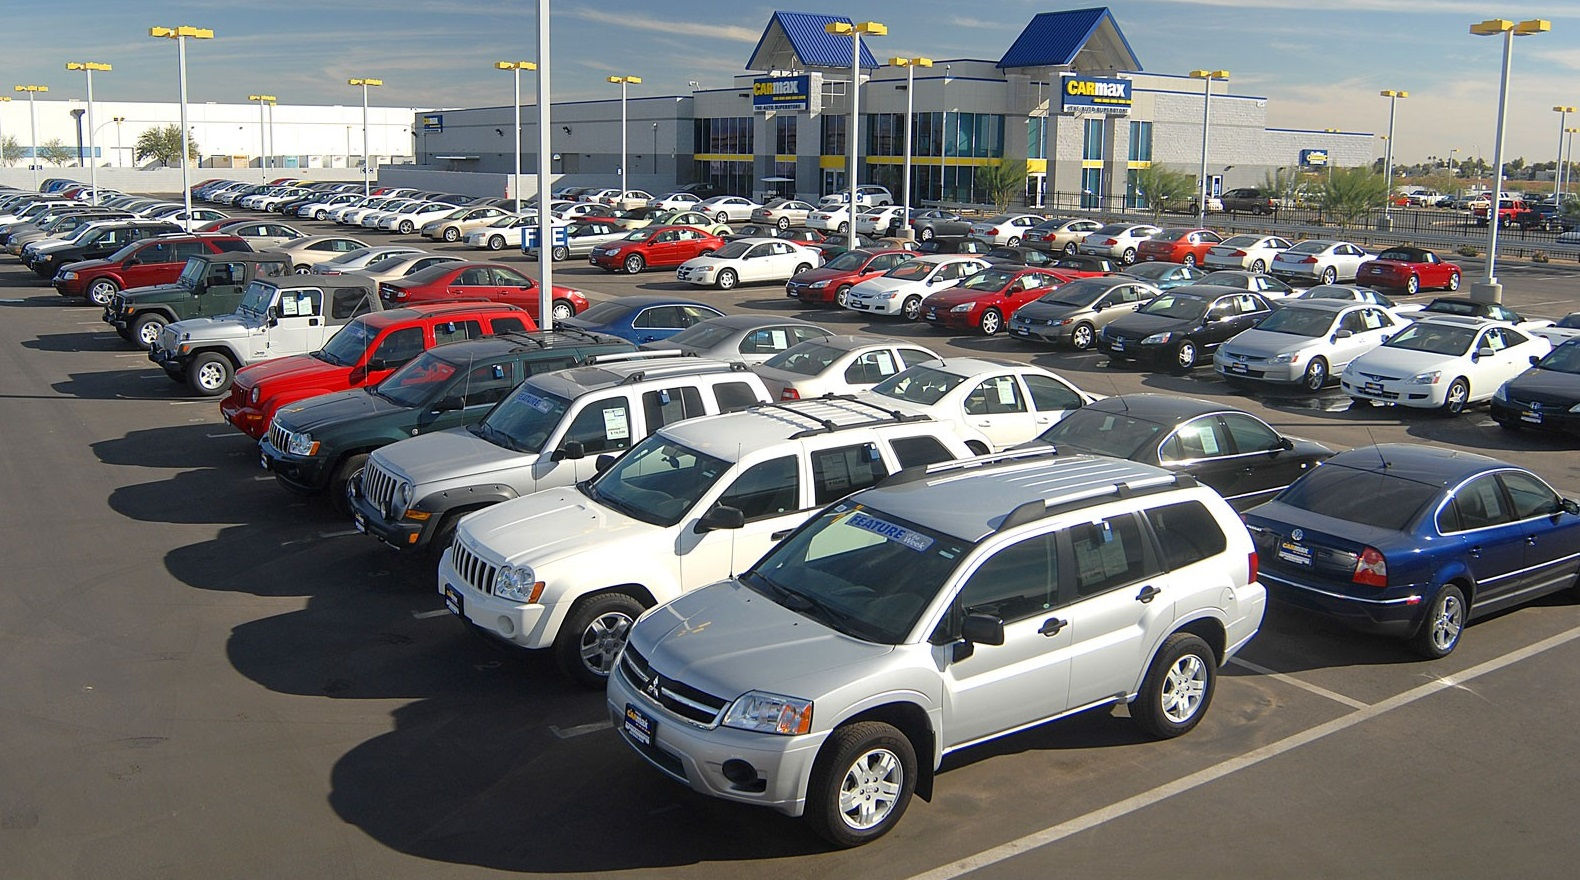Car: (608, 454, 1265, 842), (438, 397, 972, 682), (347, 359, 768, 551), (1245, 444, 1580, 659), (258, 330, 632, 495), (221, 301, 534, 441), (997, 394, 1335, 511), (151, 276, 380, 397), (864, 358, 1099, 451), (1341, 317, 1551, 415), (104, 253, 294, 350), (1214, 301, 1412, 392), (1098, 286, 1275, 372), (54, 234, 252, 306), (756, 335, 939, 402), (1007, 276, 1161, 351), (920, 267, 1072, 336), (643, 313, 833, 366), (845, 255, 987, 321), (1489, 338, 1580, 438), (381, 263, 538, 316), (562, 296, 724, 346), (676, 238, 827, 290), (22, 217, 172, 269), (32, 222, 181, 274), (787, 247, 916, 306), (591, 226, 723, 274), (6, 212, 141, 258), (1398, 297, 1556, 331), (1356, 247, 1462, 295), (521, 219, 633, 260), (0, 206, 112, 246), (1271, 240, 1371, 284), (1271, 285, 1428, 313), (462, 213, 577, 250), (264, 235, 369, 274), (343, 253, 465, 286), (1179, 270, 1308, 299), (1081, 223, 1164, 265), (421, 206, 514, 243), (1103, 261, 1207, 294), (1137, 228, 1222, 268), (1204, 235, 1291, 273), (309, 246, 419, 274), (1021, 219, 1104, 256), (887, 209, 976, 242), (378, 201, 463, 235), (0, 200, 91, 230), (643, 210, 734, 239), (969, 213, 1048, 246), (222, 220, 304, 250), (1042, 255, 1124, 282), (805, 232, 873, 263), (806, 202, 872, 233), (360, 200, 433, 228), (1528, 311, 1580, 350), (751, 200, 819, 229), (817, 185, 895, 210), (342, 198, 415, 224), (856, 206, 915, 238), (298, 193, 365, 221), (691, 196, 764, 221), (326, 195, 393, 222), (1474, 200, 1534, 229), (979, 246, 1058, 268), (1219, 188, 1281, 215), (154, 207, 229, 229), (252, 188, 317, 213), (284, 192, 343, 219), (272, 190, 335, 215), (1155, 192, 1223, 215), (913, 239, 991, 258), (241, 186, 297, 210), (615, 208, 673, 231), (232, 185, 286, 208), (721, 224, 782, 244), (0, 197, 71, 214), (1517, 205, 1563, 231), (0, 193, 66, 210), (647, 193, 703, 212), (599, 190, 656, 208), (551, 203, 611, 220), (672, 182, 730, 199), (774, 228, 826, 245), (205, 183, 254, 201), (521, 199, 578, 214), (570, 207, 627, 222), (196, 218, 258, 231), (182, 179, 224, 197), (221, 185, 260, 204), (191, 180, 228, 200), (1404, 190, 1445, 208), (111, 198, 163, 212), (197, 182, 235, 201), (866, 238, 921, 251), (559, 187, 606, 202), (213, 185, 252, 202), (83, 193, 133, 206), (491, 199, 535, 213), (579, 189, 622, 203), (1452, 195, 1489, 211), (137, 204, 185, 216), (74, 188, 122, 200), (459, 197, 510, 208), (431, 194, 477, 206), (142, 206, 192, 217), (98, 196, 148, 207), (124, 201, 172, 212), (551, 186, 585, 200), (1520, 194, 1549, 210), (59, 187, 94, 200), (47, 179, 79, 193), (1481, 192, 1512, 206), (1556, 226, 1580, 244), (1544, 192, 1579, 204), (40, 179, 69, 193), (380, 188, 419, 198), (55, 183, 96, 192), (412, 192, 451, 201), (360, 187, 397, 196), (1389, 193, 1411, 208), (394, 191, 434, 199), (1435, 195, 1457, 209), (0, 192, 20, 205), (330, 184, 361, 192), (266, 178, 299, 185), (287, 181, 319, 188), (0, 190, 37, 196), (275, 180, 305, 187), (317, 183, 346, 190), (356, 186, 381, 194), (342, 185, 366, 193), (310, 183, 334, 190), (1398, 192, 1410, 198), (0, 188, 21, 190), (0, 184, 10, 187)
